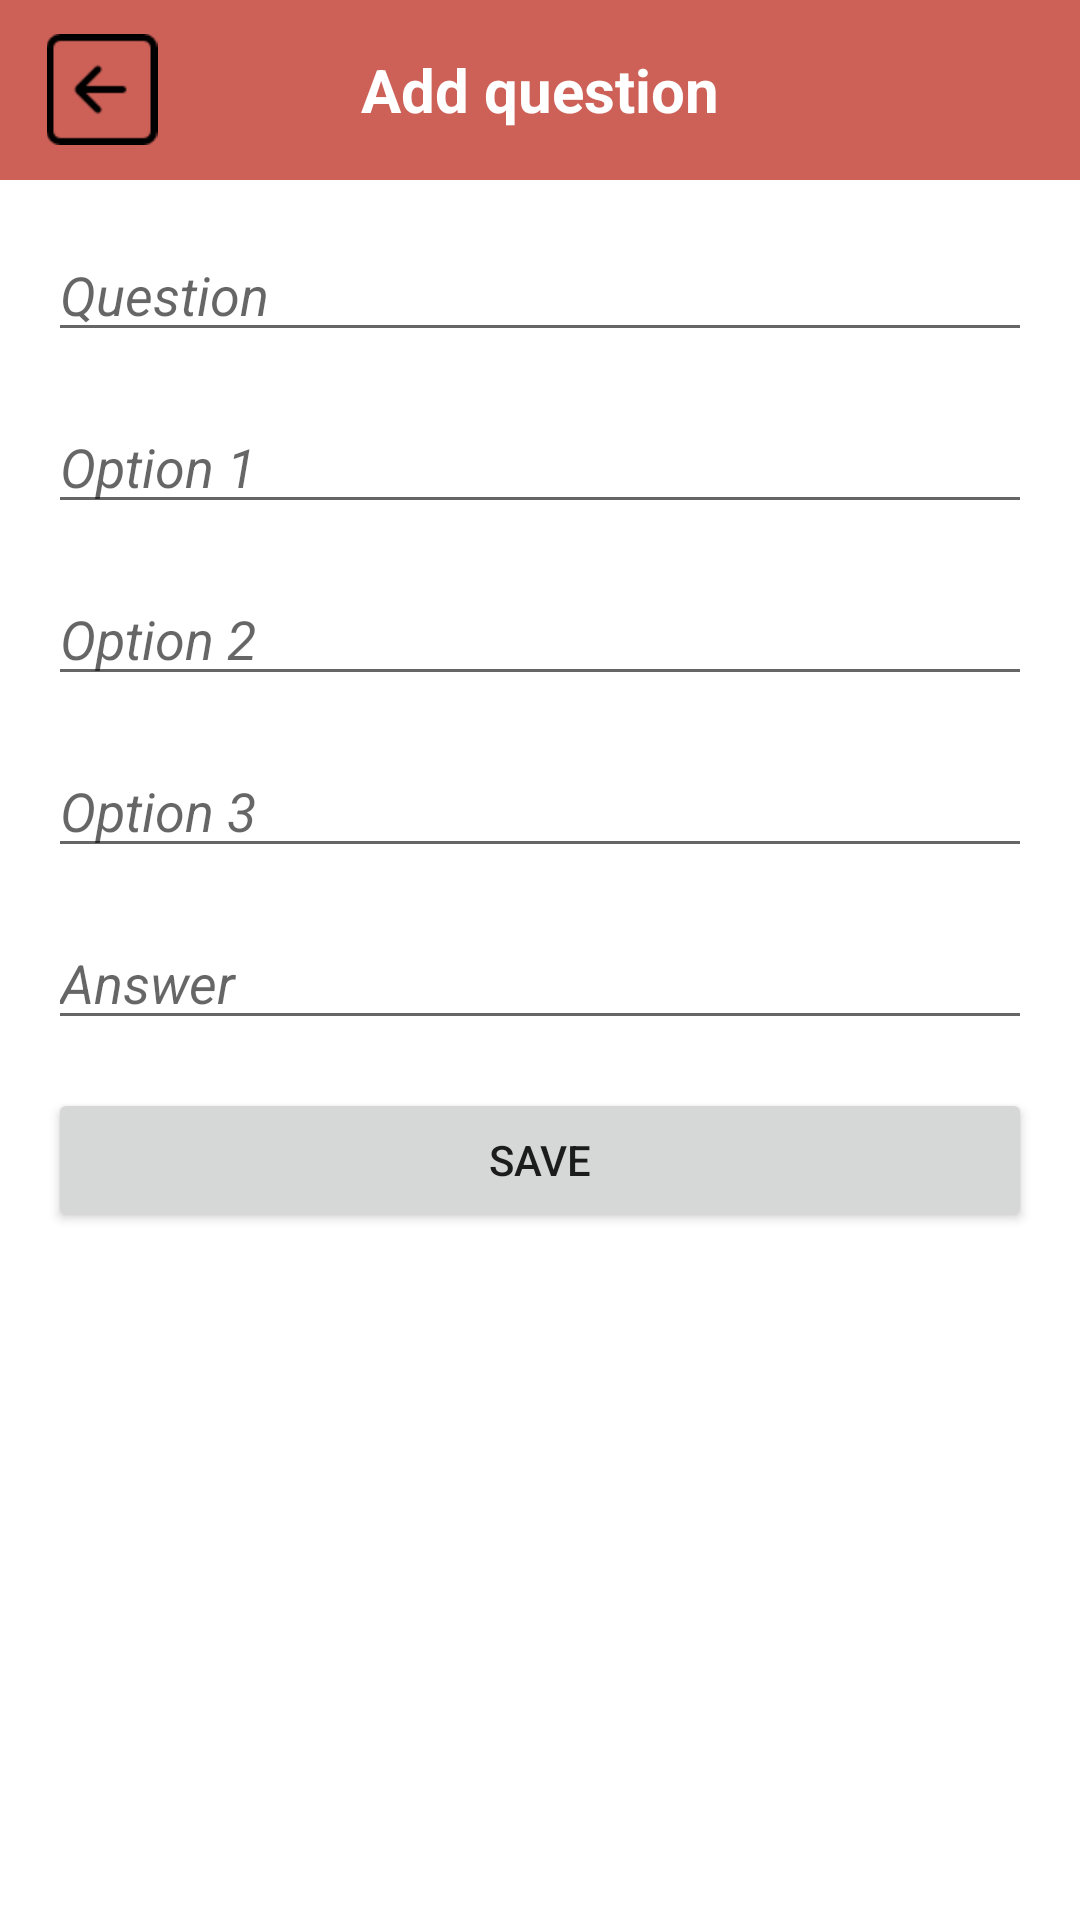

Named icons in this screenshot (1080x1920) and their bounding boxes, box(x1, y1, x2, y2):
back: box(47, 34, 158, 145)
